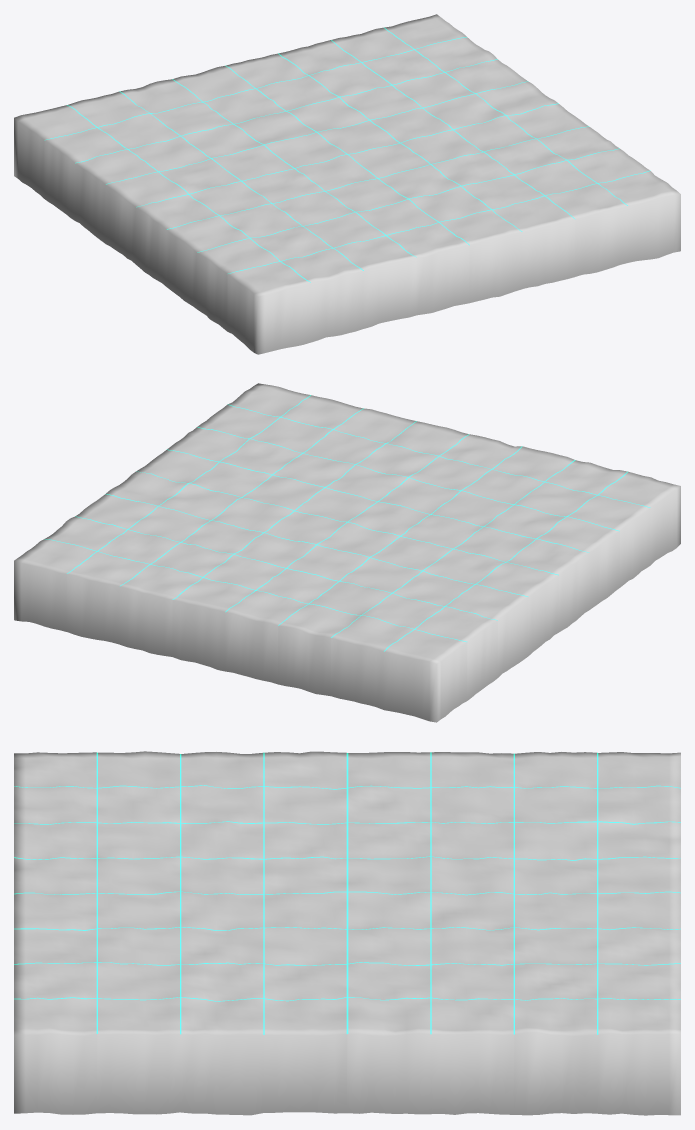
The model's file is Water.fbx.
The picture shows the model from 3 angles, top to bottom: view 1: azimuth 30°, elevation 25°; view 2: azimuth 150°, elevation 25°; view 3: azimuth 270°, elevation 25°; orthographic projection. The views are drawn at different scales.
Parts seen in each view (by area): view 1: Plane.001; view 2: Plane.001; view 3: Plane.001.
Part boxes in pixels (x1,y1,x2,y2): Plane.001: (14, 14, 680, 354); Plane.001: (14, 383, 680, 722); Plane.001: (14, 751, 680, 1115).
Bounding box in the file's own units: 3813 × 528 × 3813.
